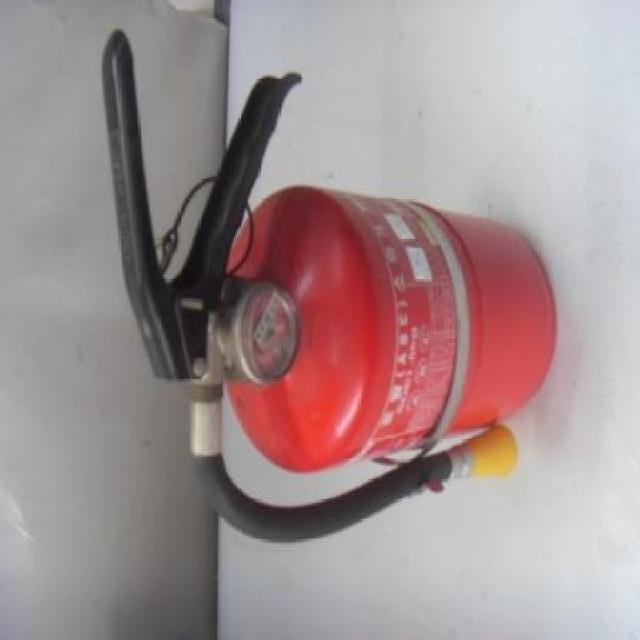fire extinguisher: (101, 28, 557, 543)
